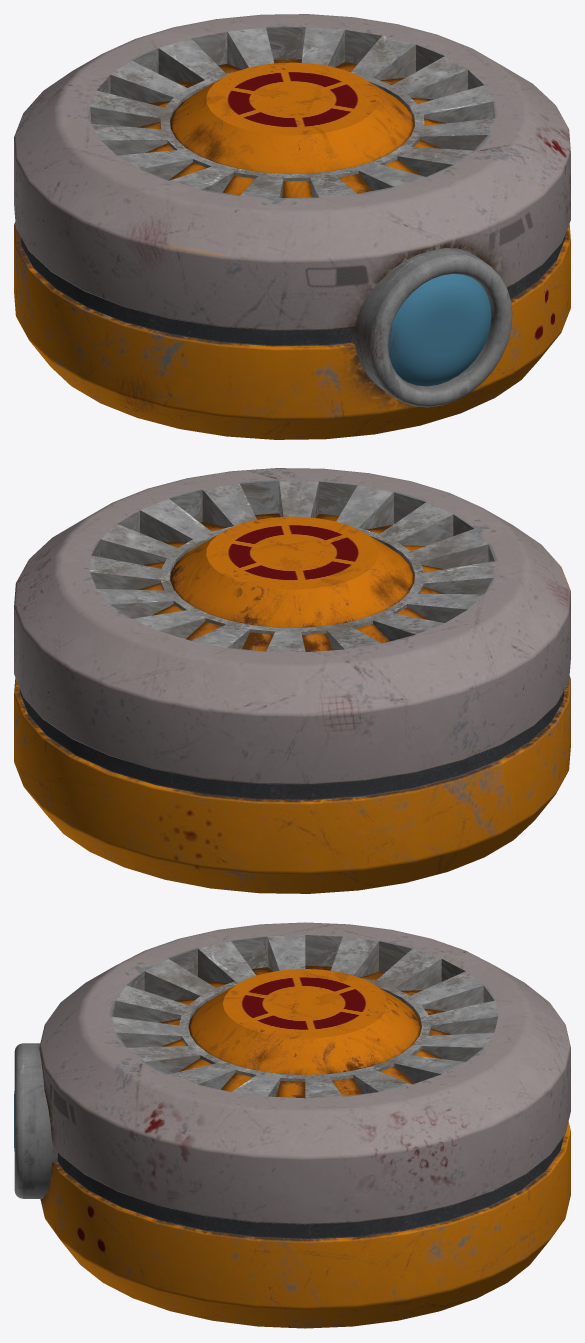
File: robotHead.glb
3 renders of one model, top to bottom at view 1: azimuth 30°, elevation 25°; view 2: azimuth 150°, elevation 25°; view 3: azimuth 270°, elevation 25°, orthographic. The views are drawn at different scales.
Parts seen in each view (by area): view 1: Cylinder.008, Cylinder.006, Cylinder.007, Cylinder, Cylinder.005, Cylinder.003, Cylinder.009, Cylinder.004, Cylinder.001, Cylinder.002; view 2: Cylinder.008, Cylinder.007, Cylinder.006, Cylinder, Cylinder.005, Cylinder.009, Cylinder.001; view 3: Cylinder.008, Cylinder.007, Cylinder.006, Cylinder, Cylinder.005, Cylinder.009, Cylinder.001, Cylinder.002, Cylinder.004.
Part boxes in pixels (x1=…): Cylinder.008: x1=15, y1=14, x2=569, y2=259; Cylinder.006: x1=14, y1=91, x2=570, y2=330; Cylinder.007: x1=14, y1=222, x2=570, y2=420; Cylinder: x1=90, y1=27, x2=494, y2=197; Cylinder.005: x1=137, y1=59, x2=446, y2=197; Cylinder.003: x1=388, y1=274, x2=491, y2=386; Cylinder.009: x1=30, y1=336, x2=558, y2=439; Cylinder.004: x1=370, y1=255, x2=512, y2=407; Cylinder.001: x1=20, y1=235, x2=565, y2=346; Cylinder.002: x1=351, y1=248, x2=488, y2=394; Cylinder.008: x1=15, y1=468, x2=569, y2=713; Cylinder.007: x1=14, y1=676, x2=570, y2=874; Cylinder.006: x1=14, y1=545, x2=570, y2=784; Cylinder: x1=90, y1=481, x2=494, y2=651; Cylinder.005: x1=138, y1=513, x2=444, y2=651; Cylinder.009: x1=26, y1=790, x2=554, y2=893; Cylinder.001: x1=19, y1=689, x2=564, y2=800; Cylinder.008: x1=41, y1=922, x2=569, y2=1156; Cylinder.007: x1=40, y1=1122, x2=570, y2=1309; Cylinder.006: x1=39, y1=1002, x2=570, y2=1224; Cylinder: x1=112, y1=935, x2=498, y2=1098; Cylinder.005: x1=159, y1=965, x2=451, y2=1098; Cylinder.009: x1=61, y1=1241, x2=548, y2=1328; Cylinder.001: x1=57, y1=1136, x2=563, y2=1239; Cylinder.002: x1=23, y1=1043, x2=57, y2=1198; Cylinder.004: x1=14, y1=1043, x2=22, y2=1198.
Bounding box in the file's own units: 2 × 0.9948 × 2.1.
Materials: 1 (1 with a texture image).
